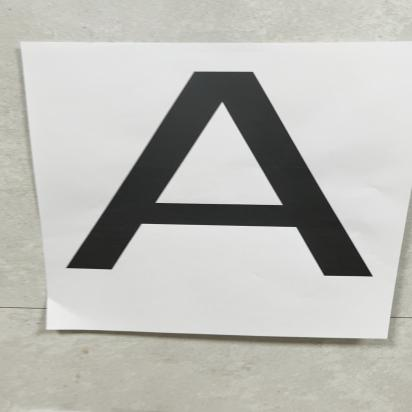seat: (41, 57, 370, 295)
